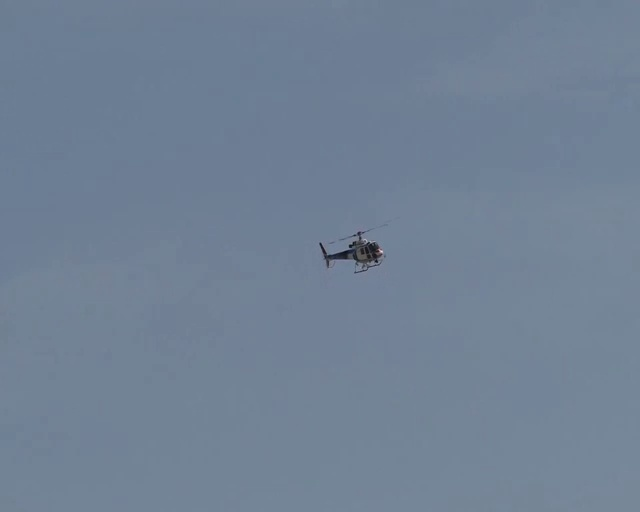HELICOPTER: (317, 216, 398, 274)
